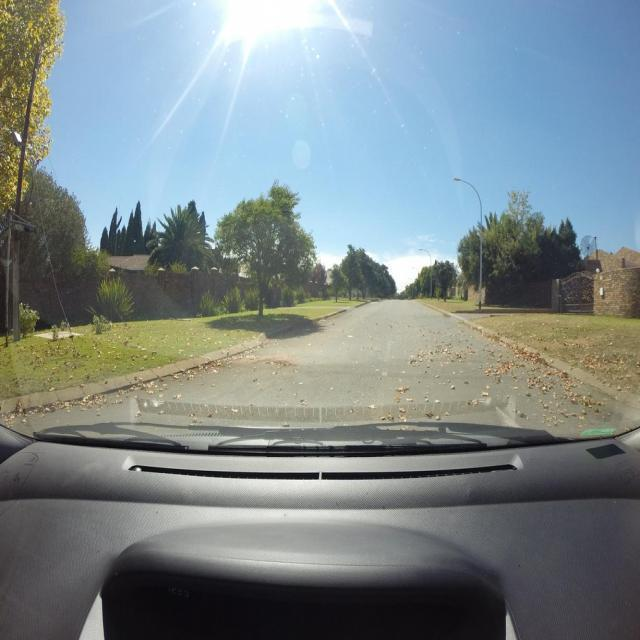pothole: (265, 360, 298, 368)
